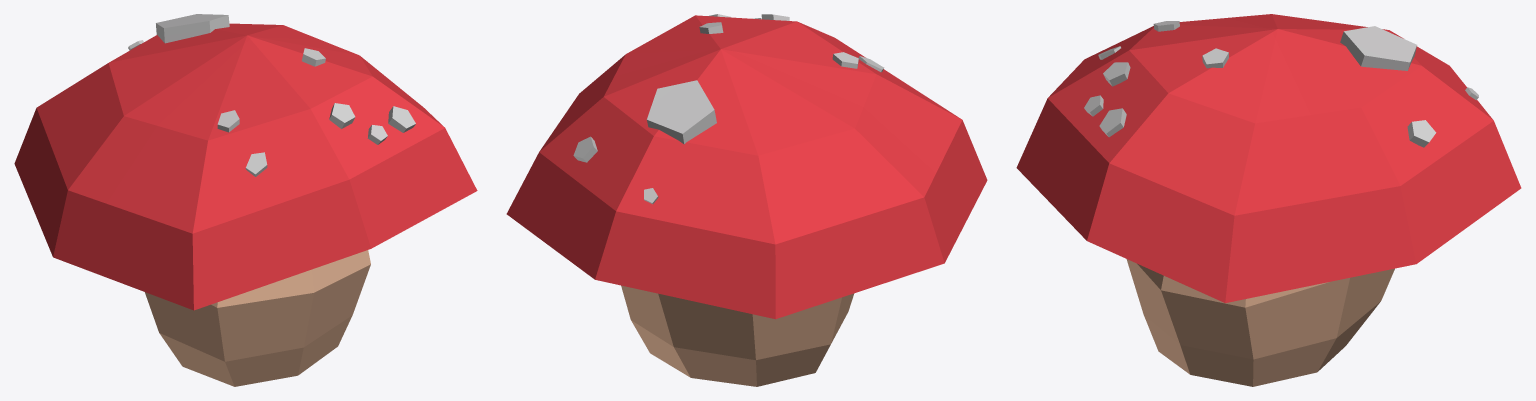
File: TreePackage.fbx_Mushroom.fbx
The picture shows the model from 3 angles, left to right: view 1: azimuth 30°, elevation 25°; view 2: azimuth 150°, elevation 25°; view 3: azimuth 270°, elevation 25°; orthographic projection. The views are drawn at different scales.
Parts seen in each view (by area): view 1: Mushroom.000; view 2: Mushroom.000; view 3: Mushroom.000.
Boxes of the visible parts, <box> form: Mushroom.000: <box>14,14,477,386</box>; Mushroom.000: <box>506,14,987,386</box>; Mushroom.000: <box>1016,14,1521,386</box>.
Bounding box in the file's own units: 97.15 × 74.62 × 101.
